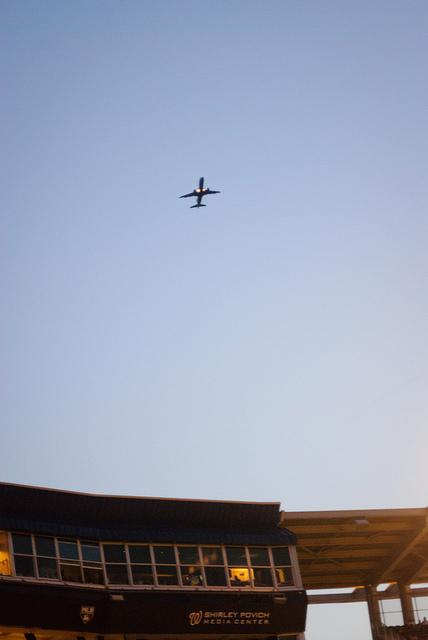airplane: (178, 174, 223, 210)
